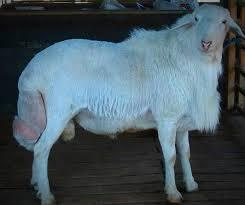Sheep: (168, 0, 245, 68)
